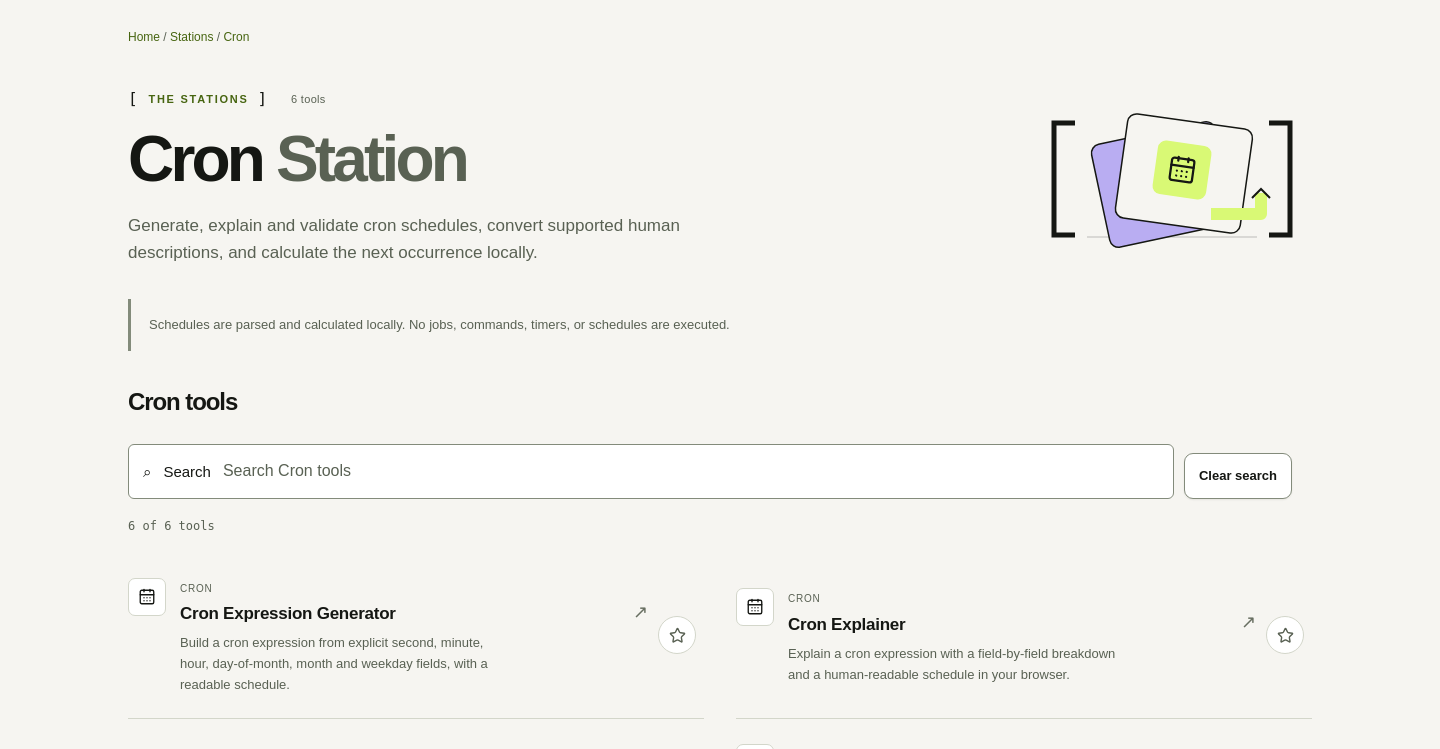
Test: shared station landing › renders the Cron landing from registry-owned tools and searches locally
Expected: the heading "Cron Station" is shown, x1=128 y1=123 x2=466 y2=195
Expected: the message reads "6 of 6 tools", x1=128 y1=519 x2=215 y2=533
Step 1. Type "validator" into the field named "Search Cron tools" → (691,472), box x1=223 y1=452 x2=1159 y2=491
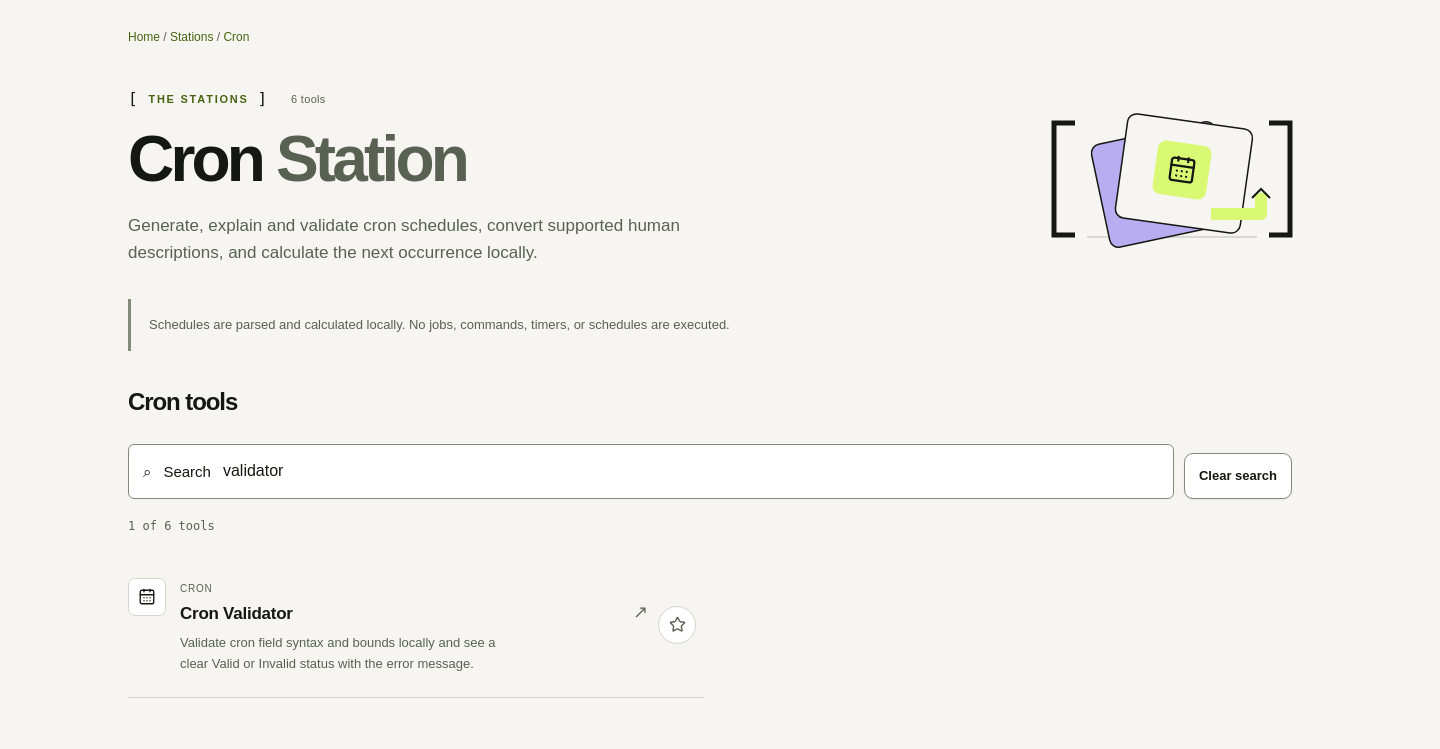
Expected: the button "Clear search" is enabled, x1=1184 y1=453 x2=1292 y2=499
Now the message reads "1 of 6 tools", box x1=128 y1=519 x2=215 y2=533
